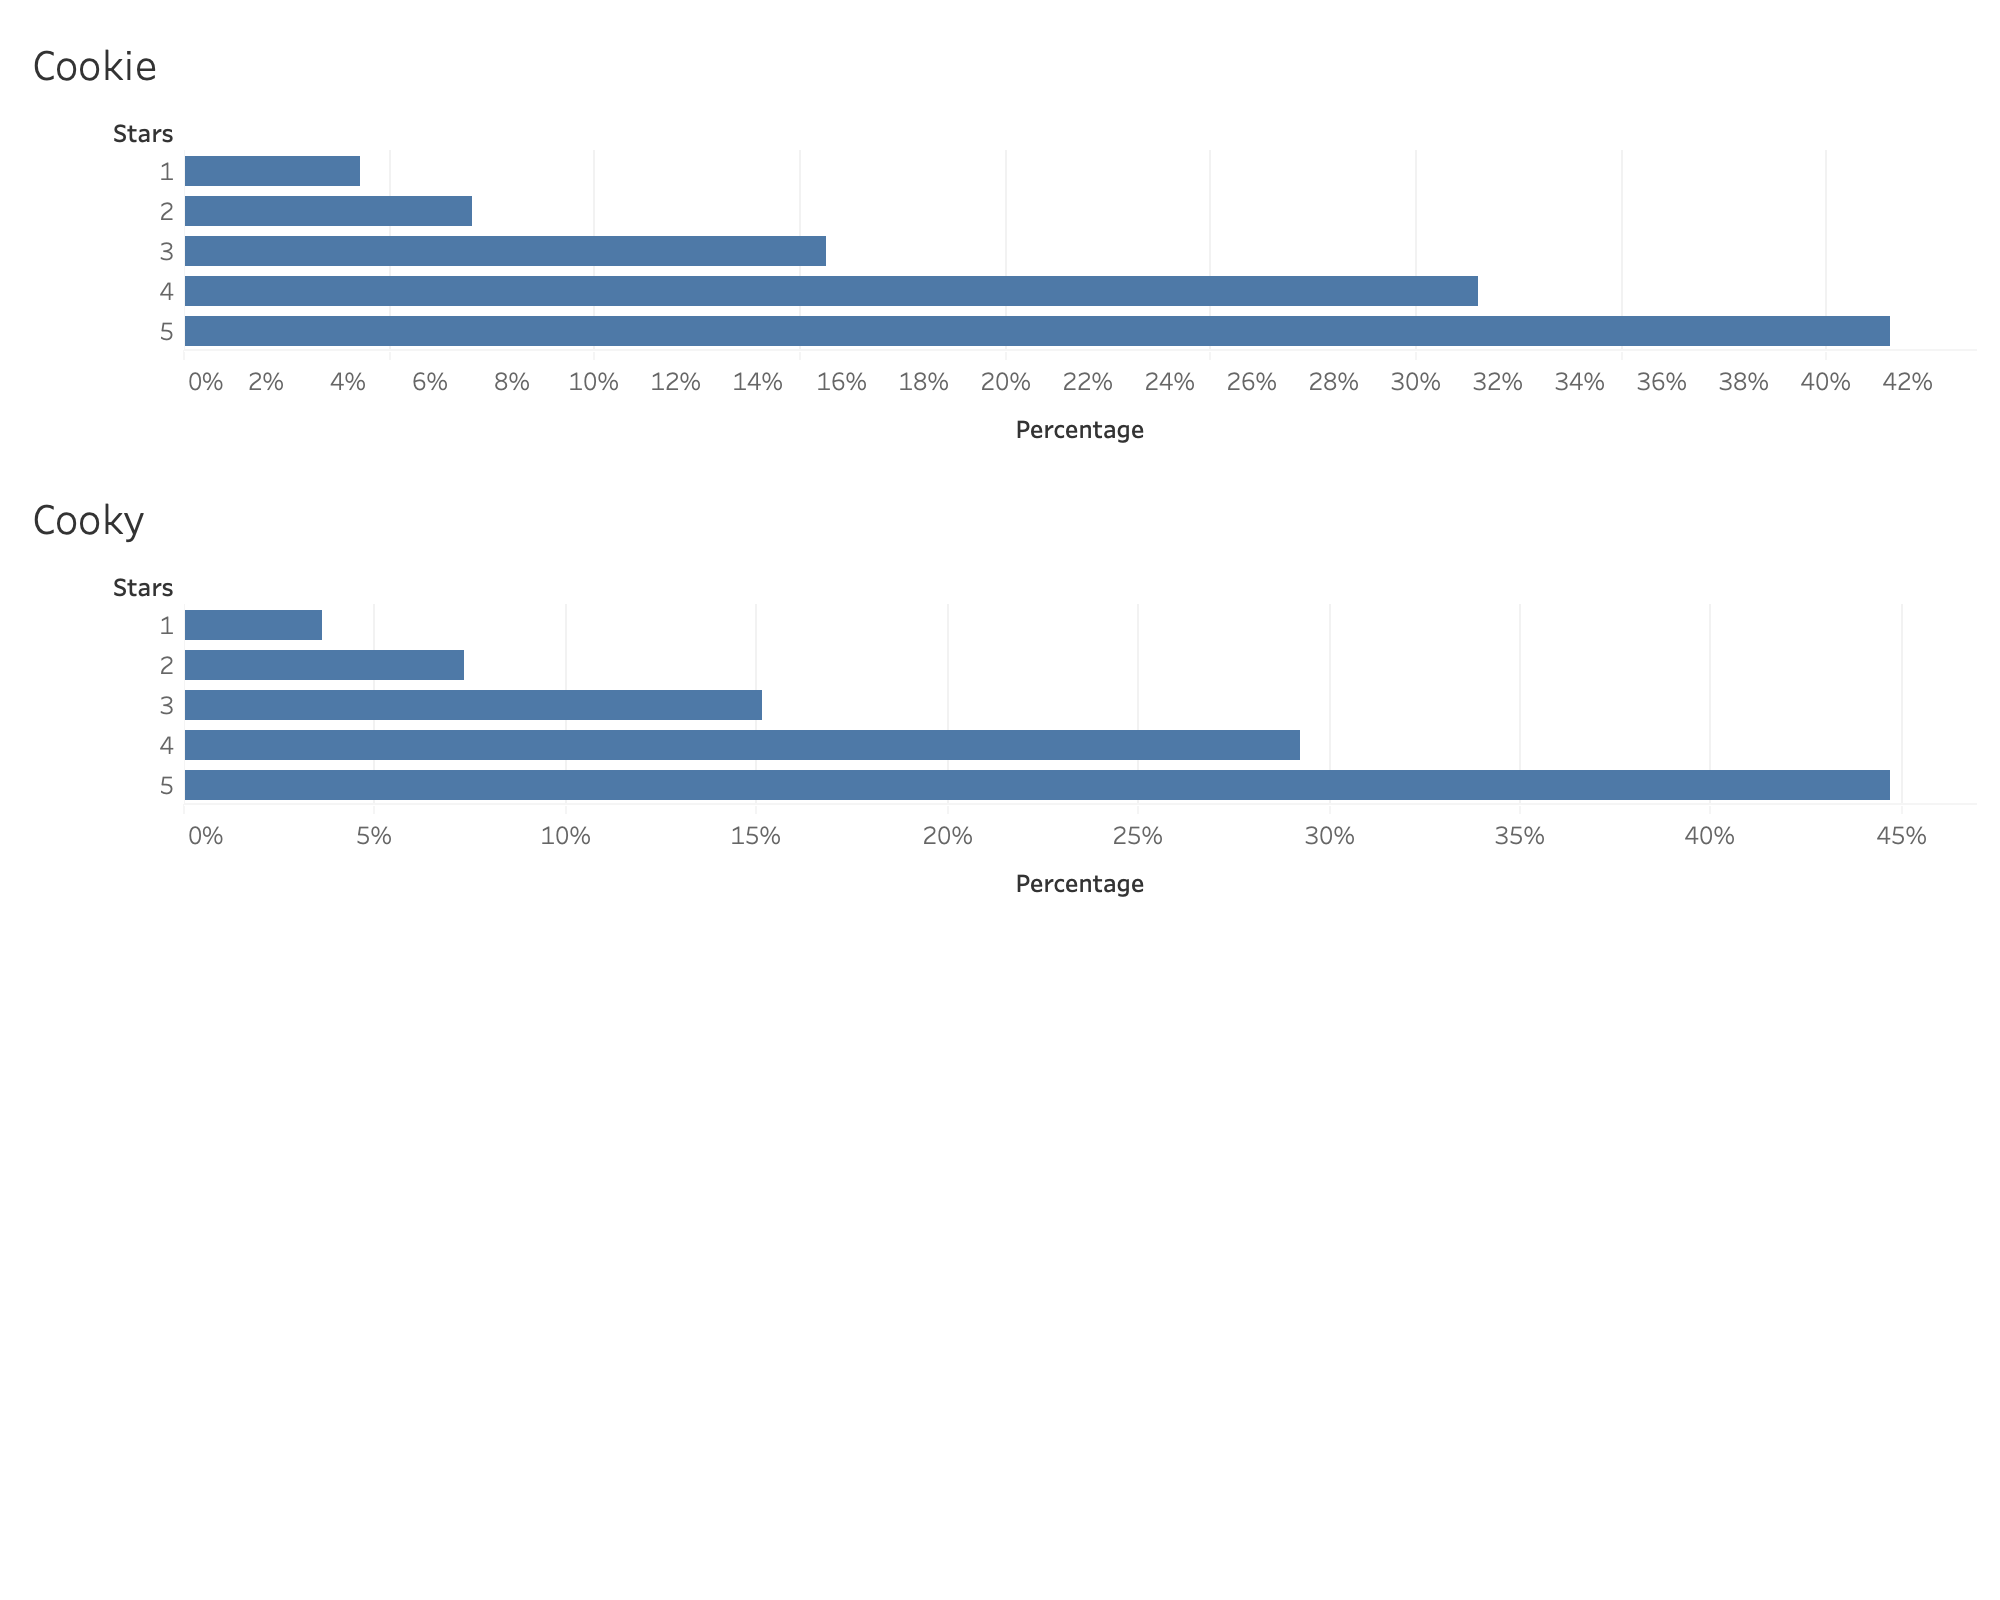

Layout of this report page (visuals, bound fields, positions):
{"tool":"tableau","page":{"name":"Cookie&cooky","canvas":[1000,800],"ordinal":0},"visuals":[{"type":"worksheet","title":"cookie_2","mark":"Automatic","rows":["stars"],"cols":["Calculation_2283958378730545158"],"box":[8,8,984,227]},{"type":"worksheet","title":"cooky_2","mark":"Automatic","rows":["stars"],"cols":["Calculation_2283958378730381317"],"box":[8,235,984,557]}]}

Visuals, with their boxes in screenshot pixels (x1, y1, x2, y2), scaled from the page's 1000x800 canvas onto the 2000x1600 screenshot:
"cookie_2" worksheet: {"x1": 16, "y1": 16, "x2": 1984, "y2": 470}
"cooky_2" worksheet: {"x1": 16, "y1": 470, "x2": 1984, "y2": 1584}
